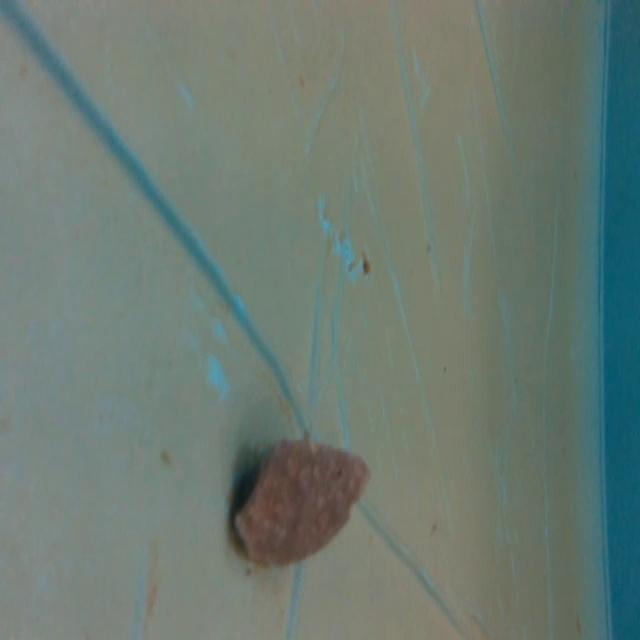rock: (230, 434, 381, 577)
